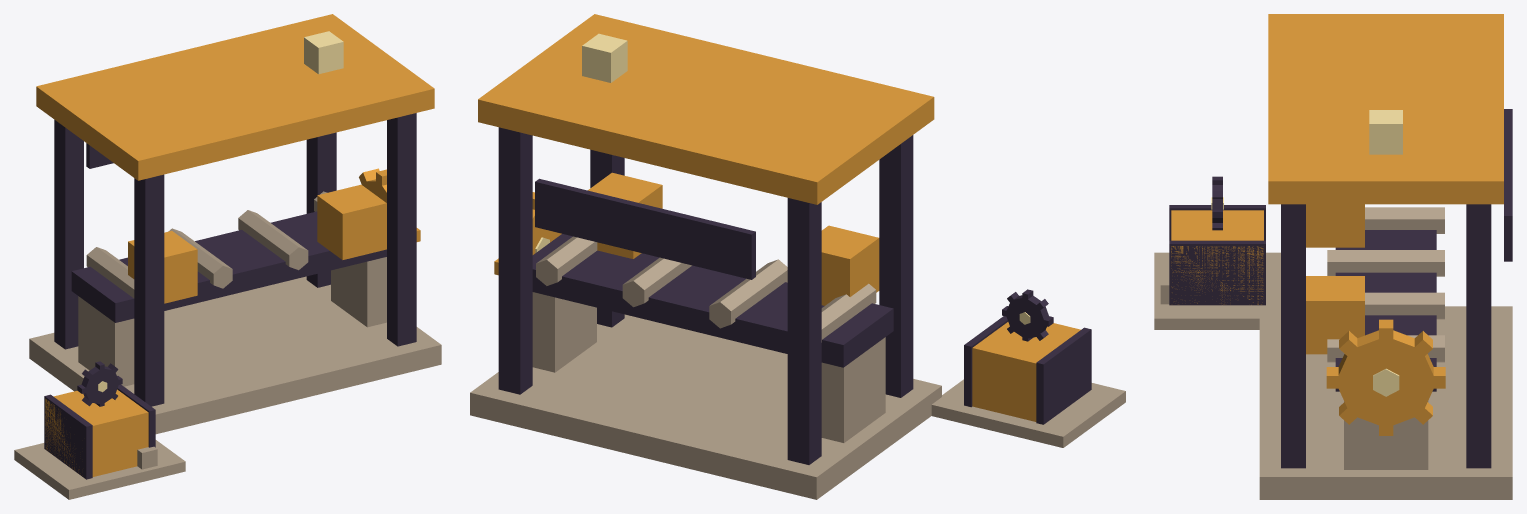
File: factory-landmark-s2b.glb
3 renders of one model, left to right at view 1: azimuth 30°, elevation 25°; view 2: azimuth 150°, elevation 25°; view 3: azimuth 270°, elevation 25°, orthographic. The views are drawn at different scales.
Parts seen in each view (by area): view 1: factory-landmark-s2b; view 2: factory-landmark-s2b; view 3: factory-landmark-s2b.
Part boxes in pixels (x1,y1,x2,y2): factory-landmark-s2b: (14, 14, 441, 499); factory-landmark-s2b: (470, 14, 1125, 499); factory-landmark-s2b: (1154, 14, 1512, 499).
Size of the model in its own units: 1.36 by 0.91 by 0.85.
